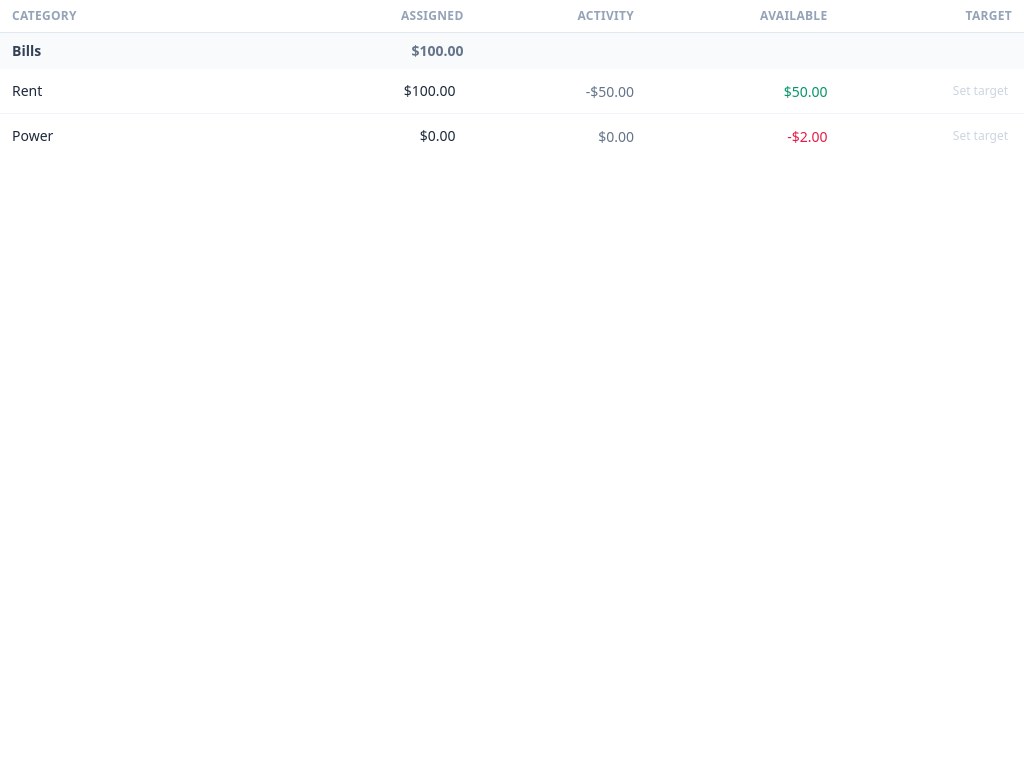
Test case: EnvelopeGrid › hides the due-month picker for weekly and monthly cadences
Click the button with aria-label "edit target for rent": (980, 91) 949,81 -> 1012,101
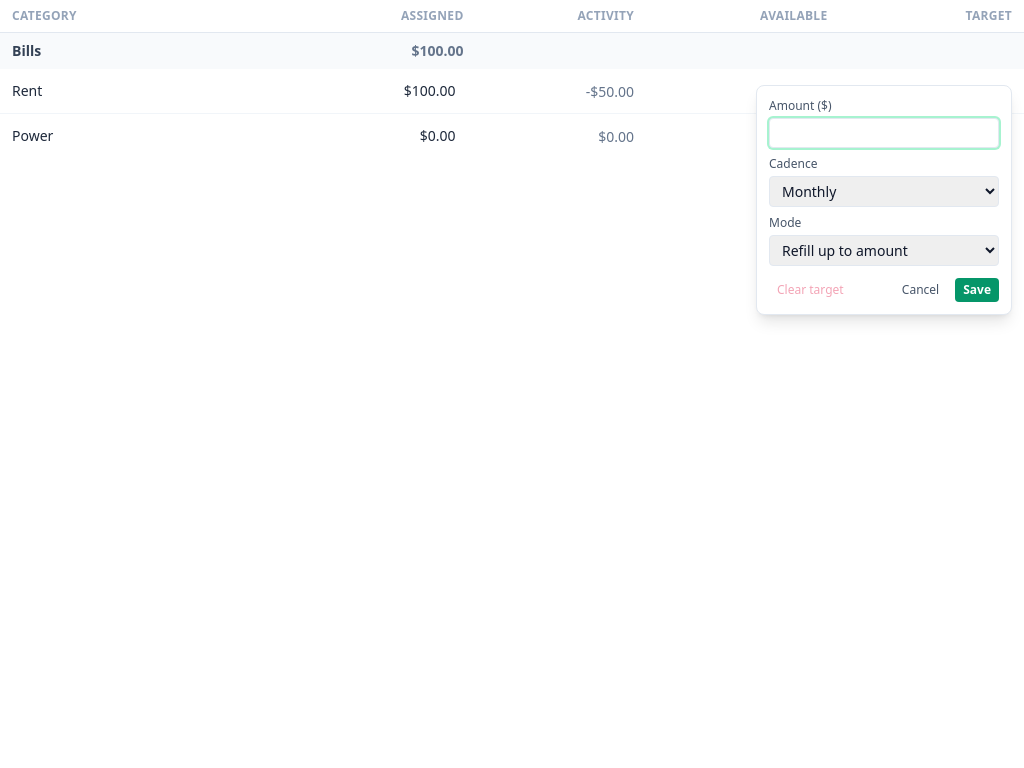
Select "Weekly" in the dropdown labelled "Cadence": (884, 192) 769,176 -> 999,207
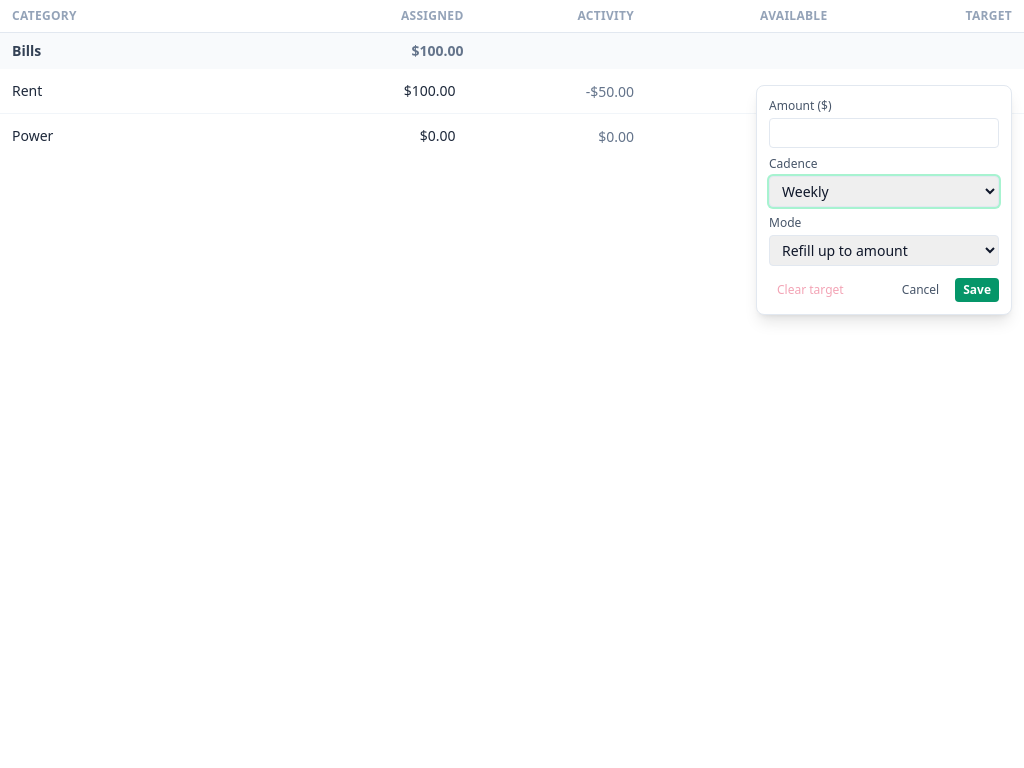
Switching to yearly reveals it.
Select "Yearly" in the dropdown labelled "Cadence": (884, 192) 769,176 -> 999,207
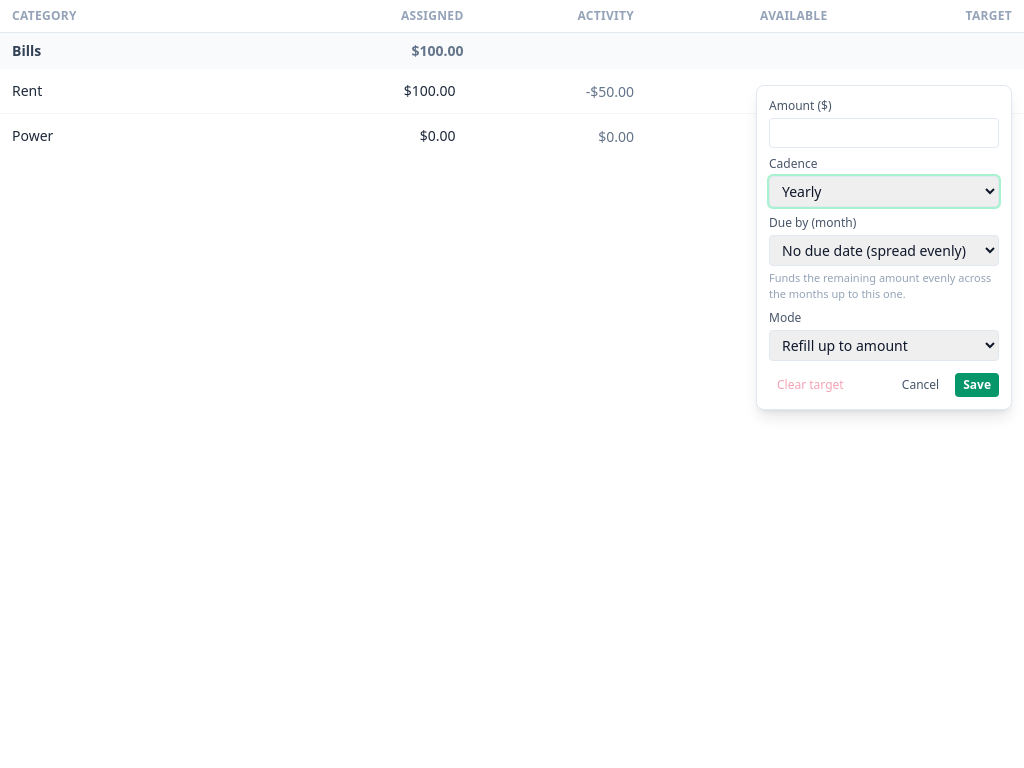
Result: the dropdown named "due month" is shown at 769,235 -> 999,266
